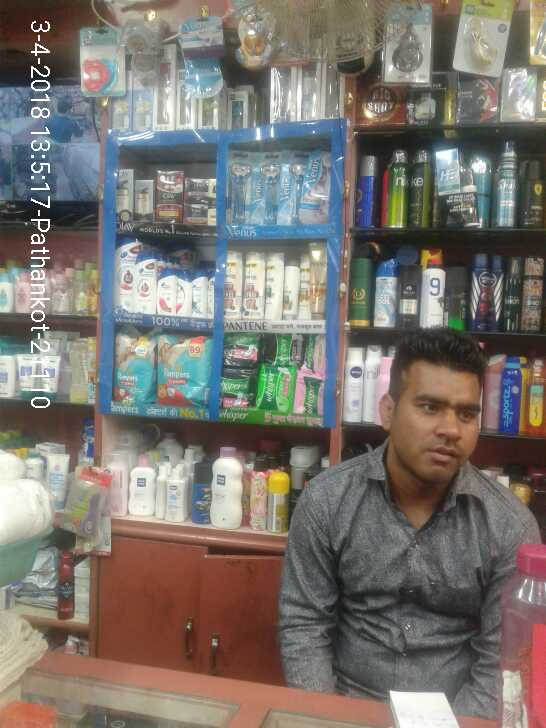venus: (299, 149, 332, 224), (253, 147, 282, 225), (231, 148, 253, 225), (282, 147, 299, 224)
